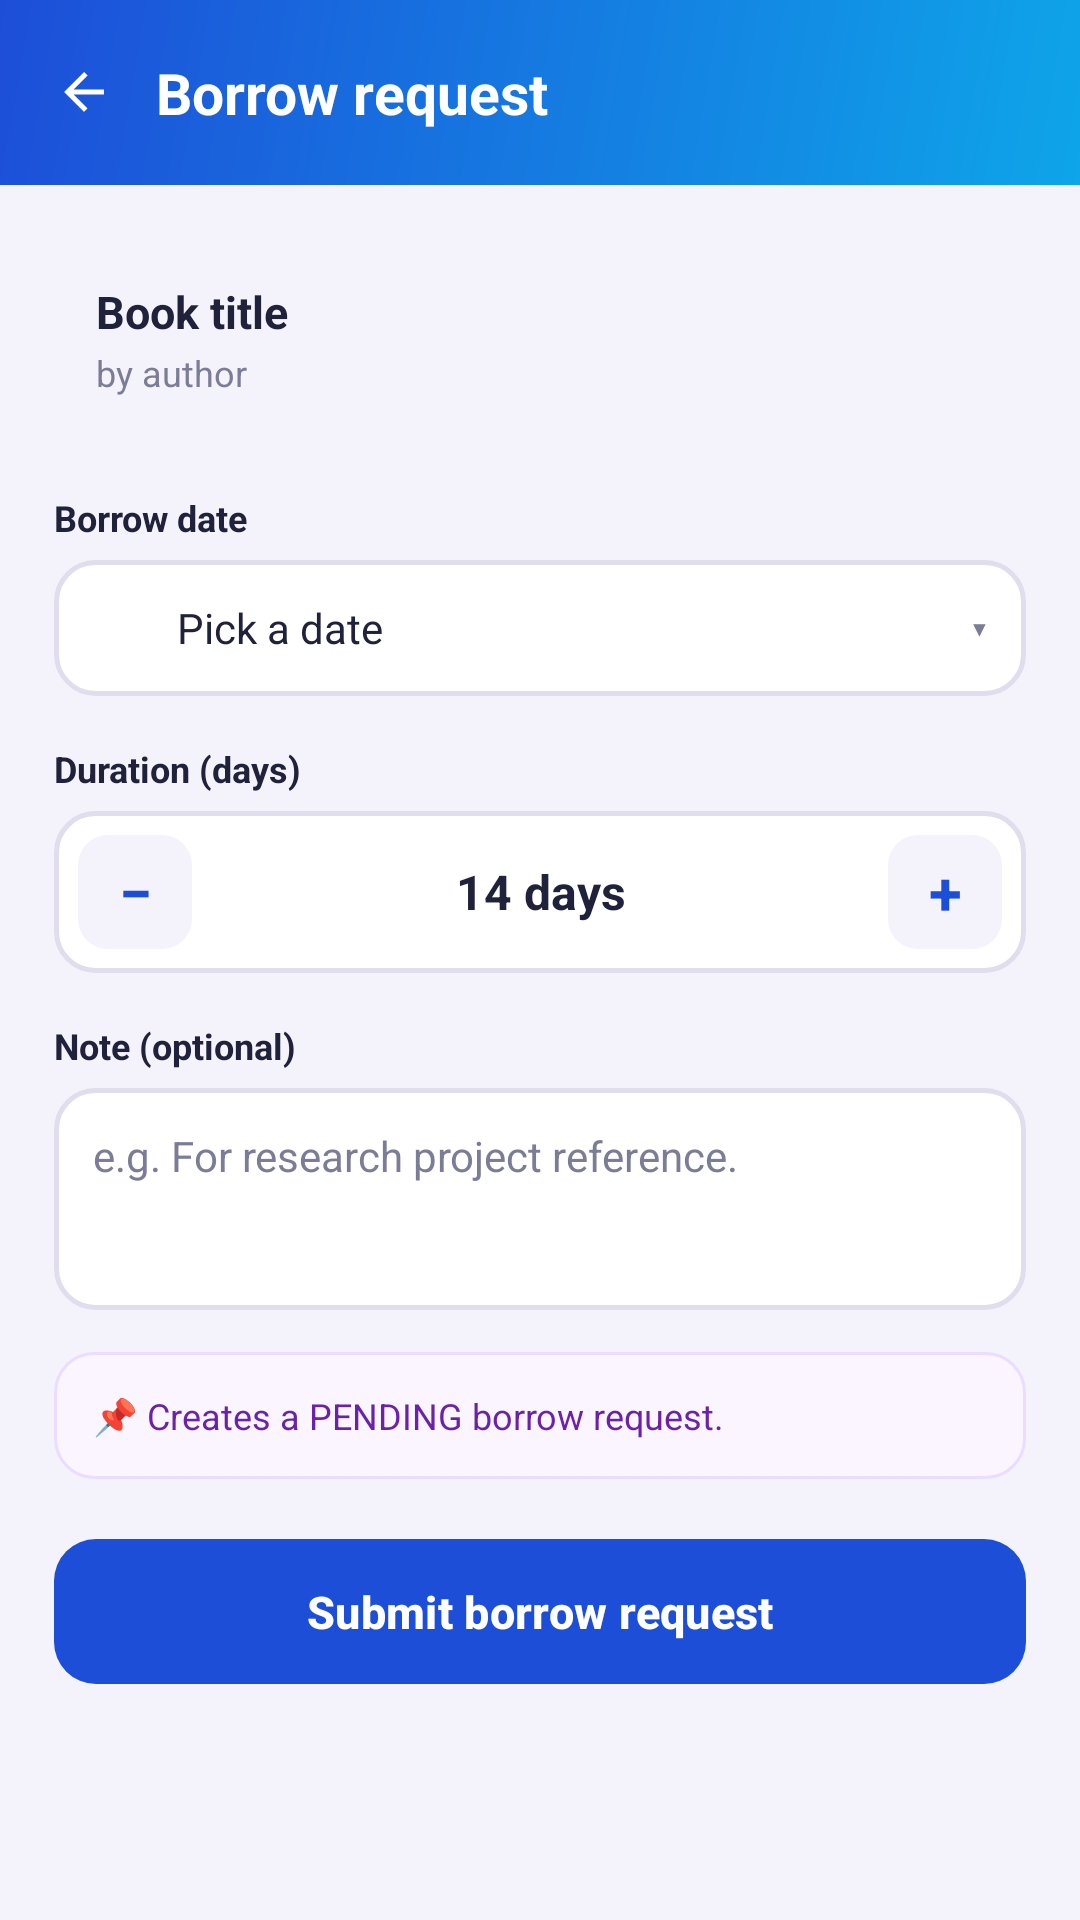

Where to tap for icons on this 1080×1920 app screen, as (x,y):
arrow back: (84,92)
